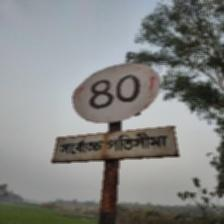Speed-limit: (51, 60, 180, 163)
